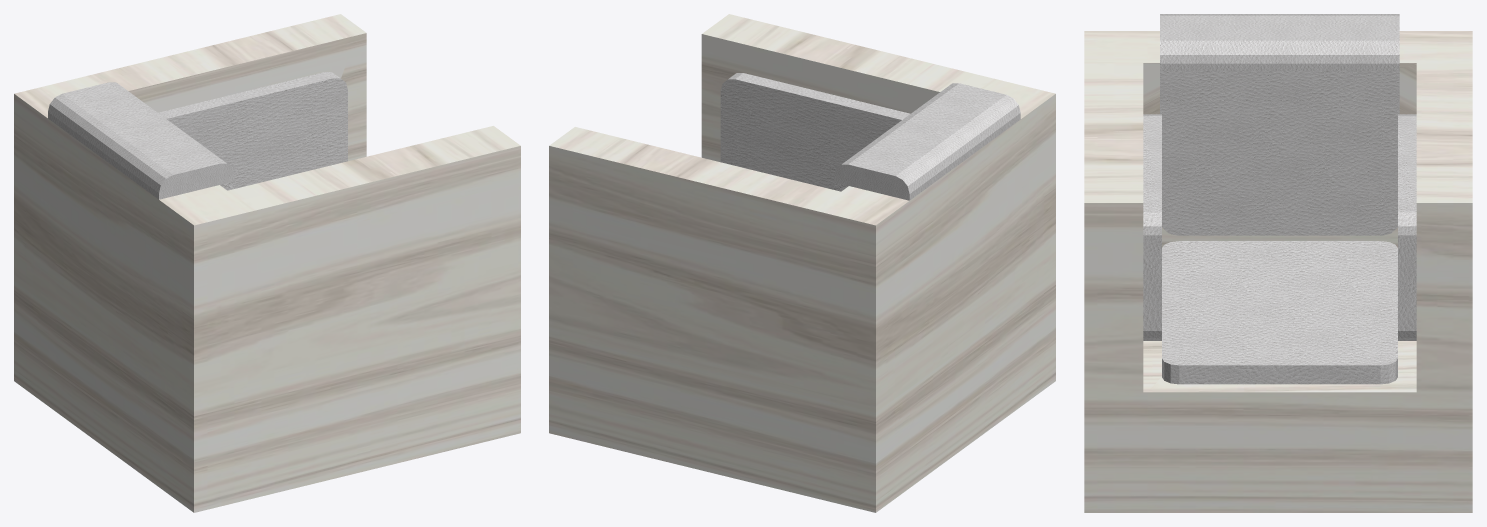
The model's file is Couch.fbx.
The picture shows the model from 3 angles, left to right: view 1: azimuth 30°, elevation 25°; view 2: azimuth 150°, elevation 25°; view 3: azimuth 270°, elevation 25°; orthographic projection. The views are drawn at different scales.
Parts seen in each view (by area): view 1: Cube; view 2: Cube; view 3: Cube.
Boxes of the visible parts, box(x1,y1,x2,y2) form: Cube: box(14, 14, 520, 512); Cube: box(549, 14, 1055, 512); Cube: box(1084, 14, 1472, 512).
Size of the model in its own units: 83.23 by 75.14 by 79.44.
